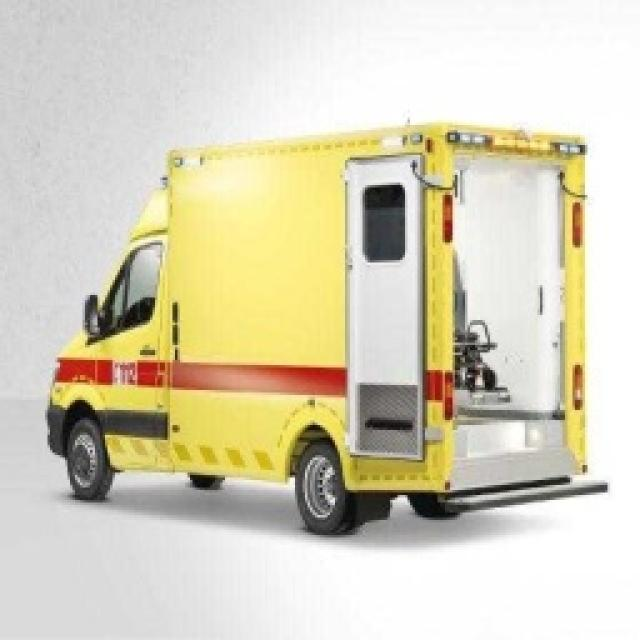emergency-vehicle: (51, 119, 600, 549)
